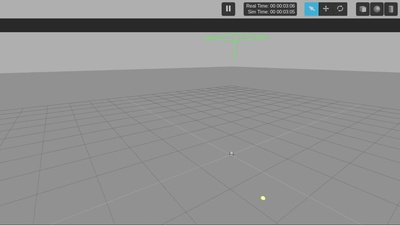mira_robot: (228, 151, 234, 156)
